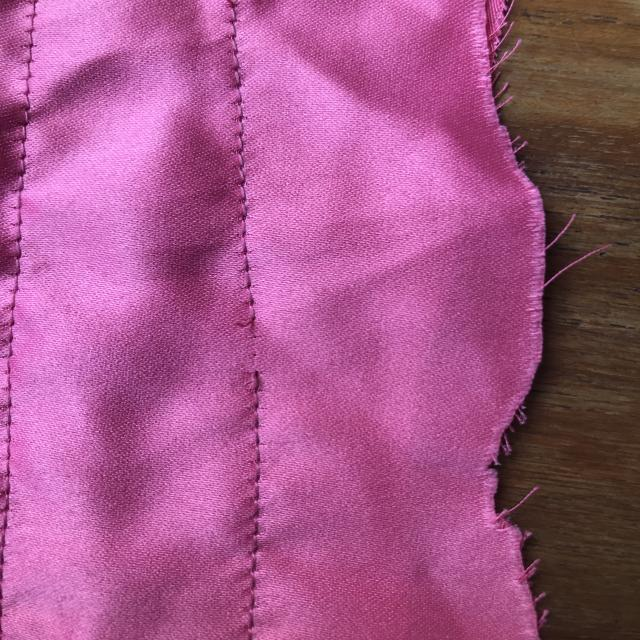broken: (222, 303, 294, 401)
